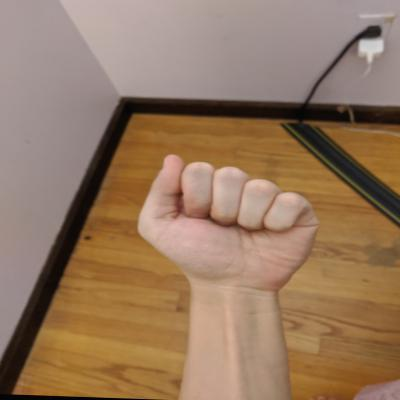hand: (129, 150, 328, 301)
